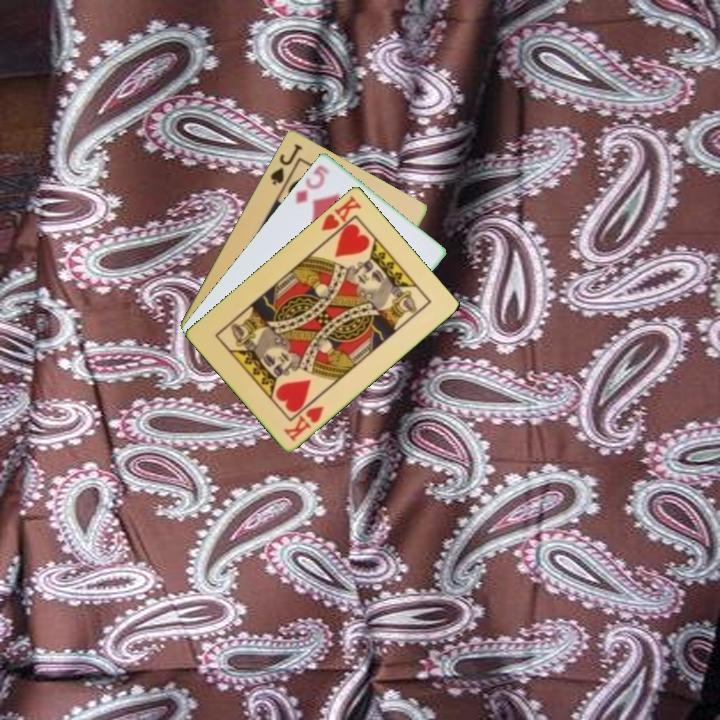5d: (292, 161, 332, 206)
Js: (266, 140, 305, 188)
Kh: (317, 192, 364, 242), (280, 402, 327, 444)
